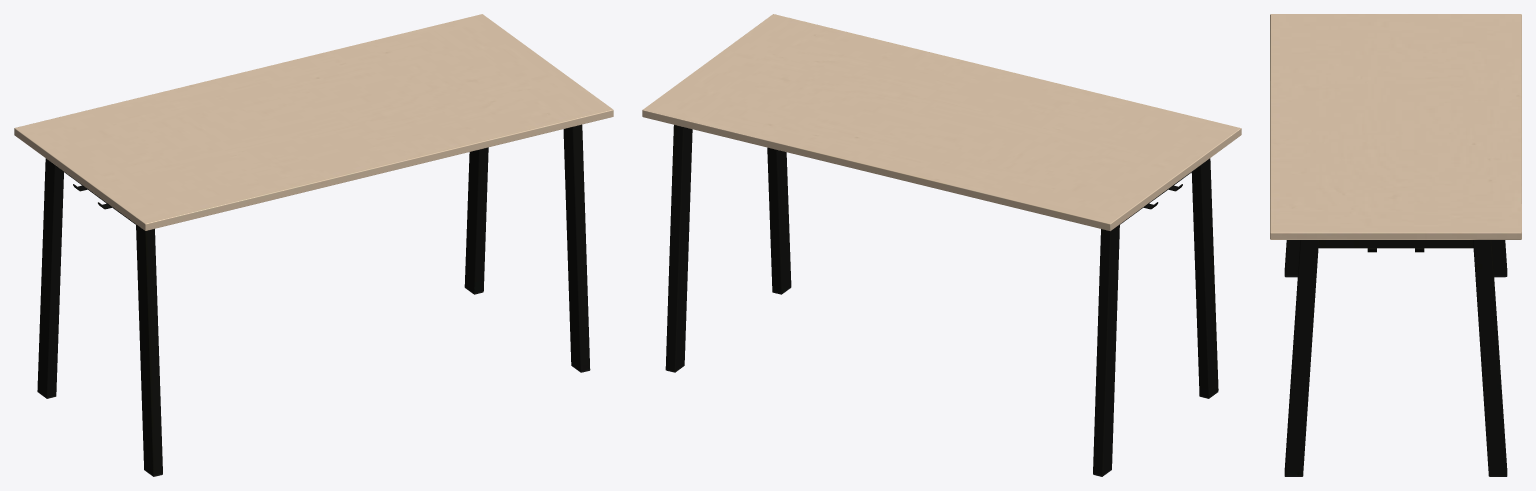
The model's file is 100 - MITTZON - 會議桌, 實木貼皮, 樺木黑色, 140x68x75 公分 IKEA 線上購物.glb.
3 renders of one model, left to right at view 1: azimuth 30°, elevation 25°; view 2: azimuth 150°, elevation 25°; view 3: azimuth 270°, elevation 25°, orthographic. The views are drawn at different scales.
Parts seen in each view (by area): view 1: model, 30544571-MITTZON001; view 2: model, 30544571-MITTZON001; view 3: model, 30544571-MITTZON001.
Boxes of the visible parts, x1,y1,x2,y2 form: model: (14,14,613,230); 30544571-MITTZON001: (37,124,590,476); model: (642,14,1241,230); 30544571-MITTZON001: (665,125,1218,476); model: (1270,14,1521,239); 30544571-MITTZON001: (1284,240,1507,476).
Size of the model in its own units: 1.4 by 0.7503 by 0.6798.
Materials: 2 (2 with a texture image).
